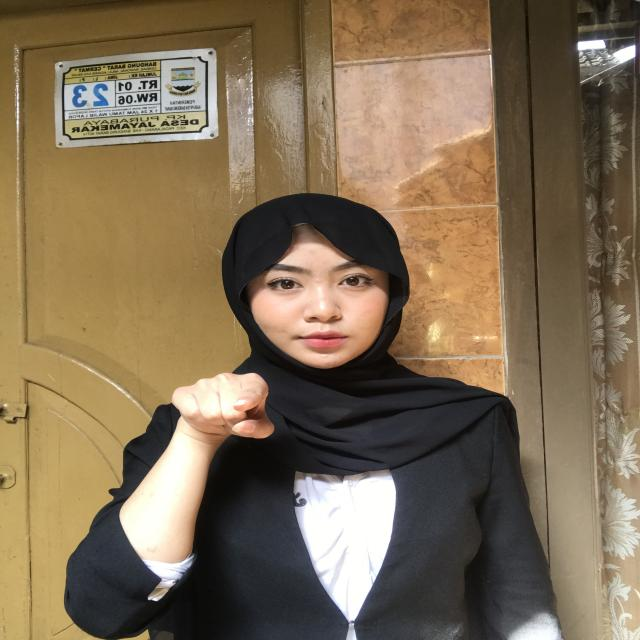kamu: (118, 354, 312, 477)
